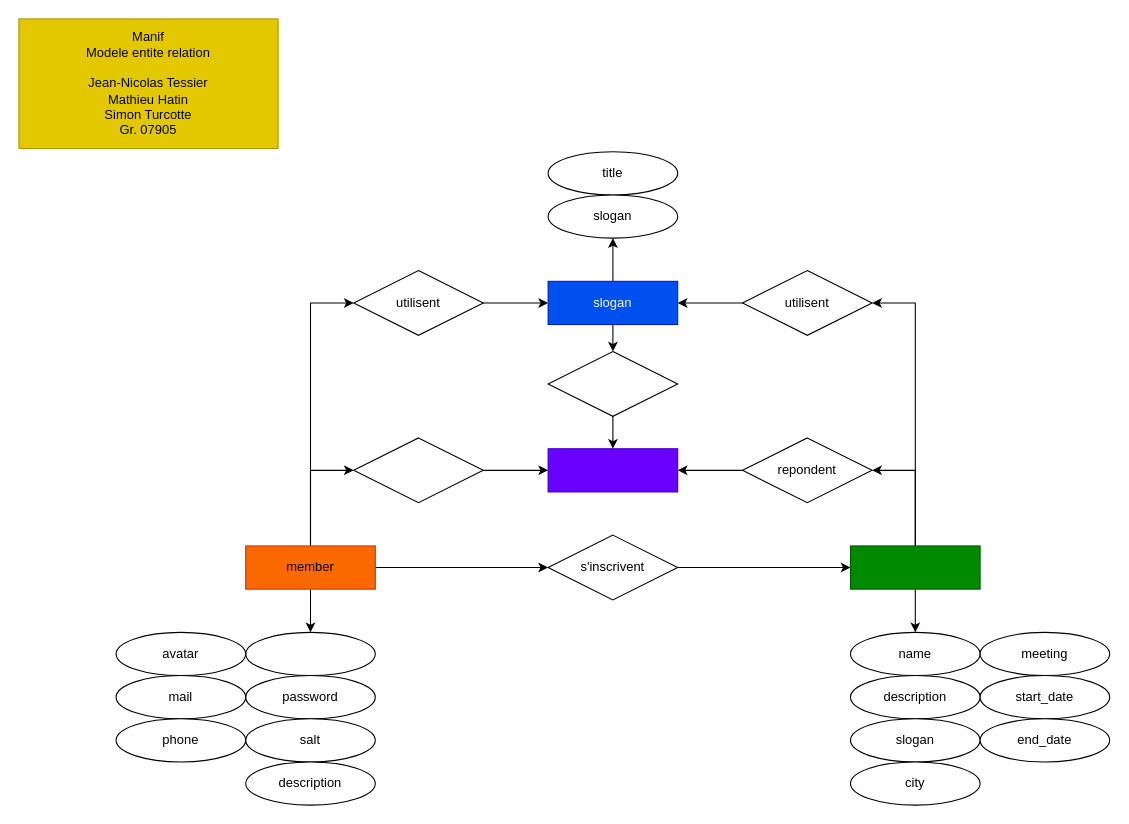
The diagram is 1129 pixels wide and 824 high, and some of its shapes have lost their labels. The centre of each missing label's shape, as x and y in pixels:
decrivent: point 612,383
interest: point 612,470
manif: point 914,567
partagent: point 418,470
username: point 310,653
